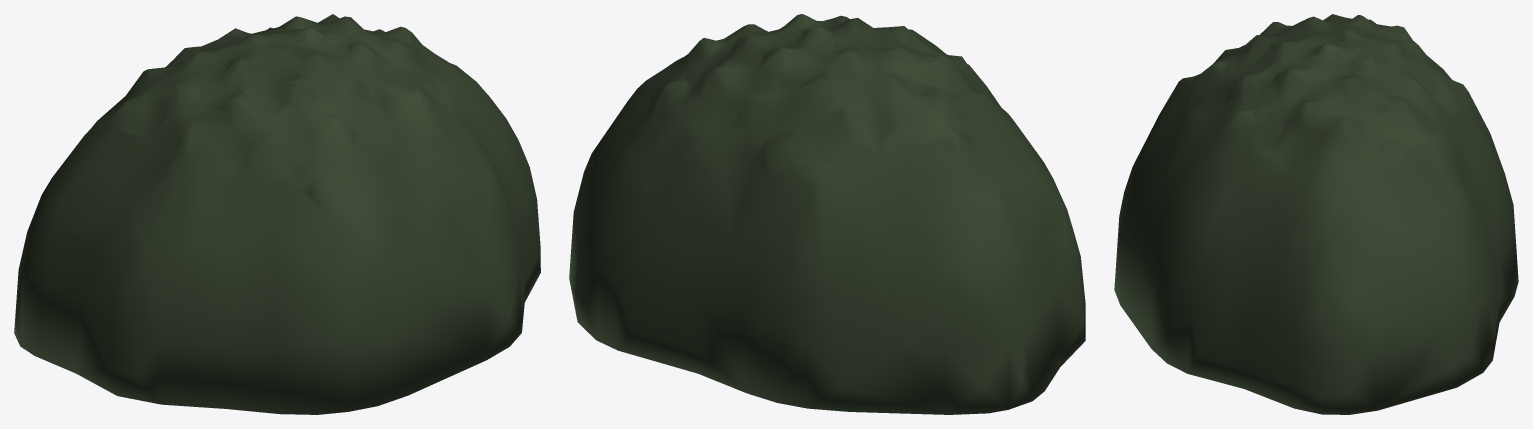
Rendered from devonian-stromatoporoid.glb.
The picture shows the model from 3 angles, left to right: view 1: azimuth 30°, elevation 25°; view 2: azimuth 150°, elevation 25°; view 3: azimuth 270°, elevation 25°; orthographic projection. The views are drawn at different scales.
Visible parts, largest first — view 1: devonian-stromatoporoid; view 2: devonian-stromatoporoid; view 3: devonian-stromatoporoid.
Part boxes in pixels (x1=…): devonian-stromatoporoid: x1=14, y1=14, x2=540, y2=414; devonian-stromatoporoid: x1=569, y1=14, x2=1085, y2=414; devonian-stromatoporoid: x1=1114, y1=14, x2=1518, y2=414.
Bounding box in the file's own units: 1.24 × 0.7 × 0.963.
